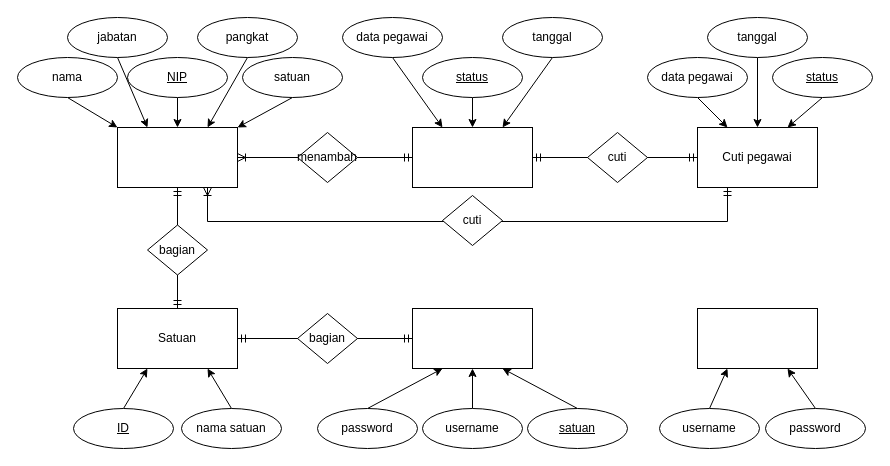
Image size: 890x466. Some labels were removed from this diagram. The shapes that lost their labels are listed below. From the top down, each one's centre as x and y in pixels, then its label:
the point at 177,157: Pegawai
the point at 472,157: Kehadiran Pegawai
the point at 472,338: Admin
the point at 757,338: Master
